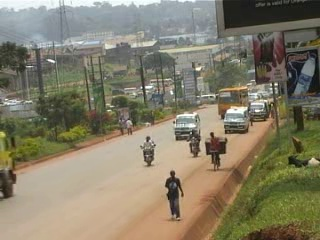Motorcycle: (140, 131, 158, 168), (186, 127, 203, 158)
